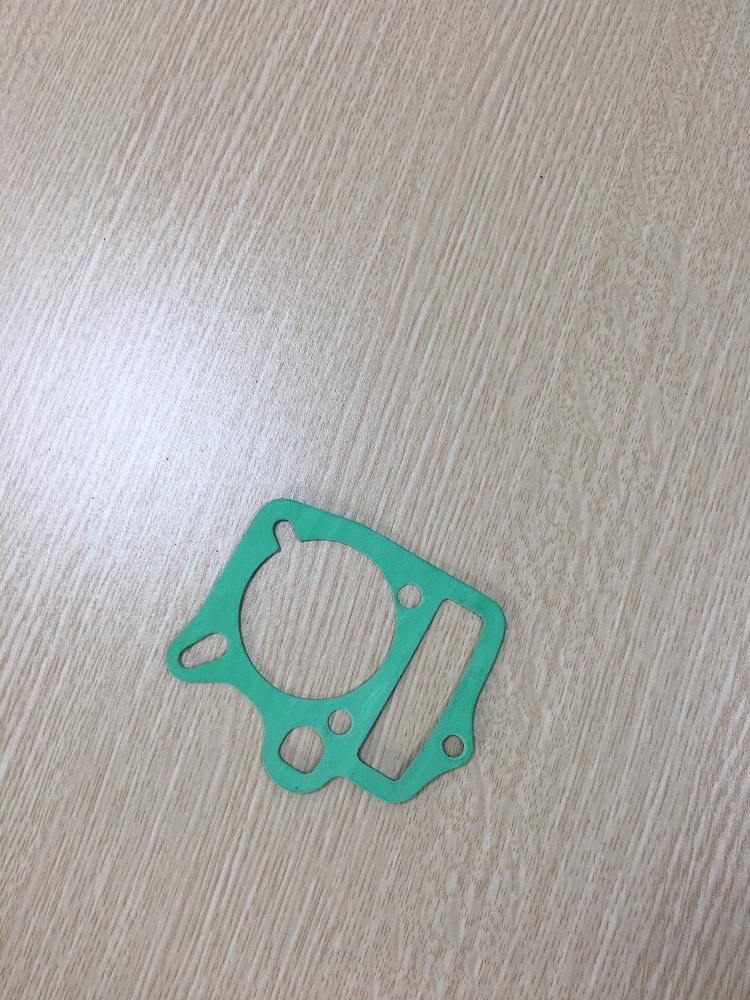circle 1: (232, 495, 407, 709)
circle 2: (265, 718, 336, 786)
circle 3: (160, 621, 250, 684)
circle 4: (388, 571, 433, 618)
circle 5: (422, 723, 479, 767)
circle 6: (350, 590, 494, 798)
object: (138, 474, 554, 837)
